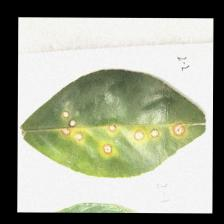canker: (53, 108, 195, 166)
